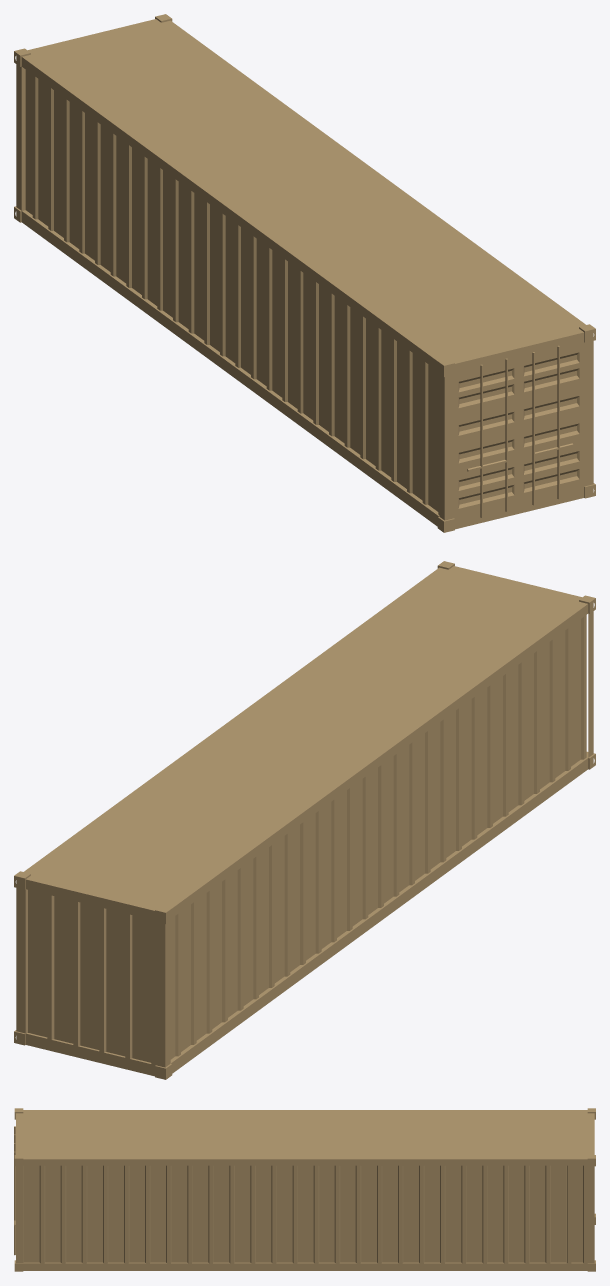
Rendered from container40.glb.
3 views of the same model, one above another, from view 1: azimuth 30°, elevation 25°; view 2: azimuth 150°, elevation 25°; view 3: azimuth 270°, elevation 25° (orthographic). The views are drawn at different scales.
Parts seen in each view (by area): view 1: world; view 2: world; view 3: world.
Boxes of the visible parts, bbox=[...] form: world: bbox=[14, 14, 595, 532]; world: bbox=[14, 561, 595, 1079]; world: bbox=[14, 1108, 595, 1271].
Size of the model in its own units: 2.44 by 2.57 by 12.
